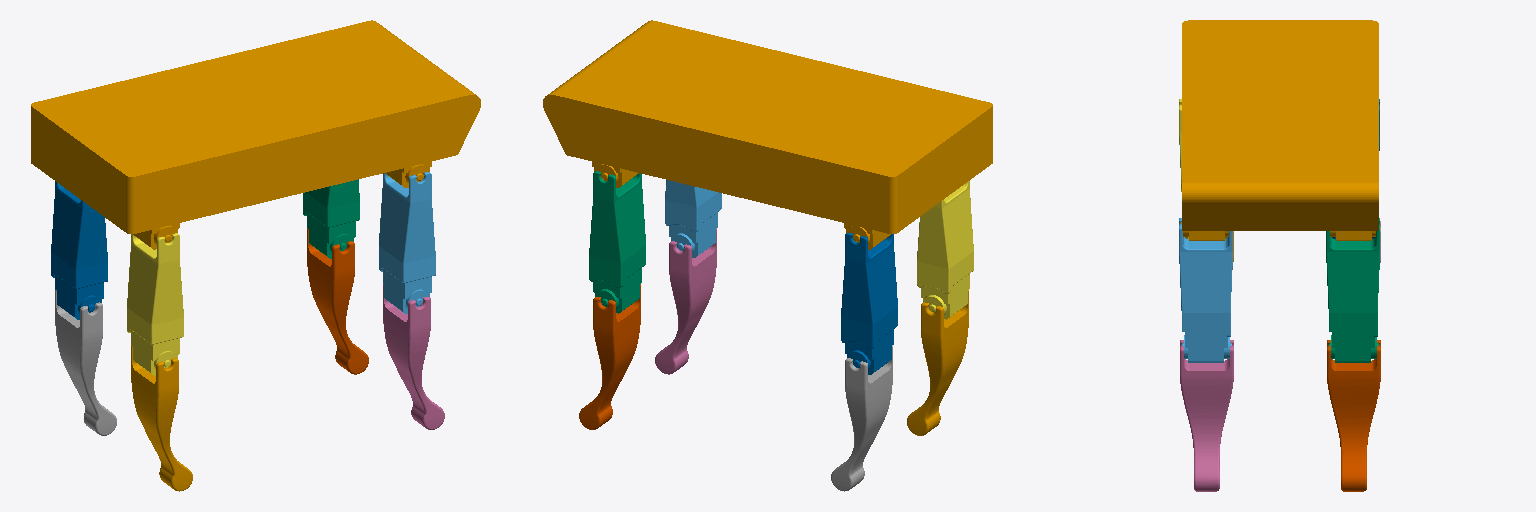
robot.urdf — quad_one_leg:
<?xml version="1.0"?>
<robot name="quad_one_leg">

  <!-- ========== BODY LINK (base_link) ========== -->
  <link name="base_link">
    <inertial>
      <!-- COM of full base (acrylic + electronics + battery etc.) 
          relative to base_link frame at plate mid-plane center -->
      <origin xyz="0.0059 -0.00040 0.01206" rpy="0 0 0"/>

      <!-- mass: 1268.5 g -->
      <mass value="1.2685"/>

      <!-- inertia tensor at COM (from SolidWorks, converted to kg·m^2) -->
      <inertia
        ixx="0.003092903"
        ixy="1.0691e-05"
        ixz="0.000192746"
        iyy="0.010472619"
        iyz="3.5222e-06"
        izz="0.012174911"/>
    </inertial>
    <visual>
        <!-- New mesh offset so that the desired body point becomes link origin -->
        <origin xyz="-0.15 -0.08 -0.02094" rpy="0 0 0"/>
        <geometry>
            <mesh filename="body.STL" scale="0.001 0.001 0.001"/>
        </geometry>
    </visual>

    <collision>
        <origin xyz="-0.15 -0.08 -0.02094" rpy="0 0 0"/>
        <geometry>
            <mesh filename="body.STL" scale="0.001 0.001 0.001"/>
        </geometry>
    </collision>
  </link>


  <!-- ========== THIGH LINK (front-right) ========== -->
  <link name="thigh_fr">
    <inertial>
      <!-- COM of thigh+servo+horn relative to hip joint frame -->
      <origin xyz="0 -0.00033 -0.07263" rpy="0 0 0"/>

      <!-- mass: 111.96 g -->
      <mass value="0.11196"/>

      <!-- inertia tensor at COM (converted from g·cm^2 to kg·m^2) -->
      <inertia
        ixx="0.011062438"
        ixy="-1.6e-08"
        ixz="5.3e-08"
        iyy="0.010248068"
        iyz="0.000102968"
        izz="0.00203968"/>
    </inertial>


    <visual>
      <origin xyz="-0.015 -0.02215 -0.1195" rpy="0 0 0"/>
      <geometry>
        <mesh filename="thigh.STL" scale="0.001 0.001 0.001"/>
      </geometry>
    </visual>

    <collision>
      <origin xyz="-0.015 -0.02215 -0.1195" rpy="0 0 0"/>
      <geometry>
        <mesh filename="thigh.STL" scale="0.001 0.001 0.001"/>
      </geometry>
    </collision>
  </link>

  <!-- ========== THIGH LINK (front-left) ========== -->
  <link name="thigh_fl">
    <inertial>
      <!-- COM of thigh+servo+horn relative to hip joint frame -->
      <origin xyz="0 -0.00033 -0.07263" rpy="0 0 0"/>

      <!-- mass: 111.96 g -->
      <mass value="0.11196"/>

      <!-- inertia tensor at COM (converted from g·cm^2 to kg·m^2) -->
      <inertia
        ixx="0.011062438"
        ixy="-1.6e-08"
        ixz="5.3e-08"
        iyy="0.010248068"
        iyz="0.000102968"
        izz="0.00203968"/>
    </inertial>

    <visual>
      <origin xyz="-0.015 -0.02215 -0.1195" rpy="0 0 0"/>
      <geometry>
        <mesh filename="thigh.STL" scale="0.001 0.001 0.001"/>
      </geometry>
    </visual>

    <collision>
      <origin xyz="-0.015 -0.02215 -0.1195" rpy="0 0 0"/>
      <geometry>
        <mesh filename="thigh.STL" scale="0.001 0.001 0.001"/>
      </geometry>
    </collision>
  </link>

  <!-- ========== THIGH LINK (back-right) ========== -->
  <link name="thigh_br">
    <inertial>
      <!-- COM of thigh+servo+horn relative to hip joint frame -->
      <origin xyz="0 -0.00033 -0.07263" rpy="0 0 0"/>

      <!-- mass: 111.96 g -->
      <mass value="0.11196"/>

      <!-- inertia tensor at COM (converted from g·cm^2 to kg·m^2) -->
      <inertia
        ixx="0.011062438"
        ixy="-1.6e-08"
        ixz="5.3e-08"
        iyy="0.010248068"
        iyz="0.000102968"
        izz="0.00203968"/>
    </inertial>

    <visual>
      <origin xyz="-0.015 -0.02215 -0.1195" rpy="0 0 0"/>
      <geometry>
        <mesh filename="thigh.STL" scale="0.001 0.001 0.001"/>
      </geometry>
    </visual>

    <collision>
      <origin xyz="-0.015 -0.02215 -0.1195" rpy="0 0 0"/>
      <geometry>
        <mesh filename="thigh.STL" scale="0.001 0.001 0.001"/>
      </geometry>
    </collision>
  </link>

  <!-- ========== THIGH LINK (back-left) ========== -->
  <link name="thigh_bl">
    <inertial>
      <!-- COM of thigh+servo+horn relative to hip joint frame -->
      <origin xyz="0 -0.00033 -0.07263" rpy="0 0 0"/>

      <!-- mass: 111.96 g -->
      <mass value="0.11196"/>

      <!-- inertia tensor at COM (converted from g·cm^2 to kg·m^2) -->
      <inertia
        ixx="0.011062438"
        ixy="-1.6e-08"
        ixz="5.3e-08"
        iyy="0.010248068"
        iyz="0.000102968"
        izz="0.00203968"/>
    </inertial>

    <visual>
      <origin xyz="-0.015 -0.02215 -0.1195" rpy="0 0 0"/>
      <geometry>
        <mesh filename="thigh.STL" scale="0.001 0.001 0.001"/>
      </geometry>
    </visual>

    <collision>
      <origin xyz="-0.015 -0.02215 -0.1195" rpy="0 0 0"/>
      <geometry>
        <mesh filename="thigh.STL" scale="0.001 0.001 0.001"/>
      </geometry>
    </collision>
  </link>

  <!-- ========== SHANK LINK (front-left) ========== -->
  <link name="shank_fl">
    <inertial>
      <!-- COM relative to knee joint frame -->
      <origin xyz="0.00406 -0.00208 -0.05257" rpy="0 0 0"/>

      <!-- mass: 61.45 g -> 0.06145 kg -->
      <mass value="0.06145"/>

      <!-- inertia tensor at COM (converted from g·mm^2 to kg·m^2) -->
      <inertia
        ixx="7.200365e-05"
        ixy="-1.96479e-06"
        ixz="-1.181483e-05"
        iyy="6.268079e-05"
        iyz="8.8824e-07"
        izz="1.96048e-05"/>
    </inertial>

    <visual>
      <origin xyz="-0.01775 -0.02925 -0.12" rpy="0 0 0"/>
      <geometry>
        <mesh filename="shank.STL" scale="0.001 0.001 0.001"/>
      </geometry>
    </visual>

    <collision>
      <origin xyz="-0.01775 -0.02925 -0.12" rpy="0 0 0"/>
      <geometry>
        <mesh filename="shank.STL" scale="0.001 0.001 0.001"/>
      </geometry>
    </collision>
  </link>

  <!-- ========== SHANK LINK (front-right) ========== -->
  <link name="shank_fr">
    <inertial>
      <!-- COM relative to knee joint frame -->
      <origin xyz="0.00406 -0.00208 -0.05257" rpy="0 0 0"/>

      <!-- mass: 61.45 g -> 0.06145 kg -->
      <mass value="0.06145"/>

      <!-- inertia tensor at COM (converted from g·mm^2 to kg·m^2) -->
      <inertia
        ixx="7.200365e-05"
        ixy="-1.96479e-06"
        ixz="-1.181483e-05"
        iyy="6.268079e-05"
        iyz="8.8824e-07"
        izz="1.96048e-05"/>
    </inertial>

    <visual>
      <origin xyz="-0.01775 -0.02925 -0.12" rpy="0 0 0"/>
      <geometry>
        <mesh filename="shank.STL" scale="0.001 0.001 0.001"/>
      </geometry>
    </visual>

    <collision>
      <origin xyz="-0.01775 -0.02925 -0.12" rpy="0 0 0"/>
      <geometry>
        <mesh filename="shank.STL" scale="0.001 0.001 0.001"/>
      </geometry>
    </collision>
  </link>

  <!-- ========== SHANK LINK (back-left) ========== -->
  <link name="shank_bl">
    <inertial>
      <!-- COM relative to knee joint frame -->
      <origin xyz="0.00406 -0.00208 -0.05257" rpy="0 0 0"/>

      <!-- mass: 61.45 g -> 0.06145 kg -->
      <mass value="0.06145"/>

      <!-- inertia tensor at COM (converted from g·mm^2 to kg·m^2) -->
      <inertia
        ixx="7.200365e-05"
        ixy="-1.96479e-06"
        ixz="-1.181483e-05"
        iyy="6.268079e-05"
        iyz="8.8824e-07"
        izz="1.96048e-05"/>
    </inertial>

    <visual>
      <origin xyz="-0.01775 -0.02925 -0.12" rpy="0 0 0"/>
      <geometry>
        <mesh filename="shank.STL" scale="0.001 0.001 0.001"/>
      </geometry>
    </visual>

    <collision>
      <origin xyz="-0.01775 -0.02925 -0.12" rpy="0 0 0"/>
      <geometry>
        <mesh filename="shank.STL" scale="0.001 0.001 0.001"/>
      </geometry>
    </collision>
  </link>

  <!-- ========== SHANK LINK (back-right) ========== -->
  <link name="shank_br">
    <inertial>
      <!-- COM relative to knee joint frame -->
      <origin xyz="0.00406 -0.00208 -0.05257" rpy="0 0 0"/>

      <!-- mass: 61.45 g -> 0.06145 kg -->
      <mass value="0.06145"/>

      <!-- inertia tensor at COM (converted from g·mm^2 to kg·m^2) -->
      <inertia
        ixx="7.200365e-05"
        ixy="-1.96479e-06"
        ixz="-1.181483e-05"
        iyy="6.268079e-05"
        iyz="8.8824e-07"
        izz="1.96048e-05"/>
    </inertial>

    <visual>
      <origin xyz="-0.01775 -0.02925 -0.12" rpy="0 0 0"/>
      <geometry>
        <mesh filename="shank.STL" scale="0.001 0.001 0.001"/>
      </geometry>
    </visual>

    <collision>
      <origin xyz="-0.01775 -0.02925 -0.12" rpy="0 0 0"/>
      <geometry>
        <mesh filename="shank.STL" scale="0.001 0.001 0.001"/>
      </geometry>
    </collision>
  </link>

  <!-- ========== HIP JOINT (base_link -> thigh_fr) ========== -->
  <joint name="hip_fr" type="revolute">
    <parent link="base_link"/>
    <child  link="thigh_fr"/>

    <origin xyz="0.1163 -0.059 -0.0120" rpy="0 0 0"/>

    <axis xyz="0 1 0"/>

    <limit lower="-1.22" upper="1.22" effort="1.91" velocity="5.5"/>
  </joint>

  <!-- ========== HIP JOINT (base_link -> thigh_fl) ========== -->
  <joint name="hip_fl" type="revolute">
    <parent link="base_link"/>
    <child  link="thigh_fl"/>

    <origin xyz="0.1163 0.061 -0.012" rpy="0 0 0"/>

    <axis xyz="0 1 0"/>

    <limit lower="-1.22" upper="1.22" effort="1.91" velocity="5.5"/>
  </joint>

  <!-- ========== HIP JOINT (base_link -> thigh_br) ========== -->
  <joint name="hip_br" type="revolute">
    <parent link="base_link"/>
    <child  link="thigh_br"/>

    <origin xyz="-0.1137 -0.0590 -0.0120" rpy="0 0 0"/>

    <axis xyz="0 1 0"/>

    <limit lower="-1.22" upper="1.22" effort="1.91" velocity="5.5"/>
  </joint>

  <!-- ========== HIP JOINT (base_link -> thigh_bl) ========== -->
  <joint name="hip_bl" type="revolute">
    <parent link="base_link"/>
    <child  link="thigh_bl"/>

    <origin xyz="-0.1137 0.0610 -0.0120" rpy="0 0 0"/>

    <axis xyz="0 1 0"/>

    <limit lower="-1.22" upper="1.22" effort="1.91" velocity="5.5"/>
  </joint>

  <!-- ========== KNEE JOINT (thigh_fl -> shank_fl) ========== -->
  <joint name="knee_fl" type="revolute">
    <parent link="thigh_fl"/>
    <child  link="shank_fl"/>

    <origin xyz="0 0 -0.1095" rpy="0 0 0"/>

    <axis xyz="0 1 0"/>

    <limit lower="-1.22" upper="1.22" effort="1.91" velocity="5.5"/>
  </joint>

  <!-- ========== KNEE JOINT (thigh_fr -> shank_fr) ========== -->
  <joint name="knee_fr" type="revolute">
    <parent link="thigh_fr"/>
    <child  link="shank_fr"/>

    <origin xyz="0 0 -0.1095" rpy="0 0 0"/>

    <axis xyz="0 1 0"/>

    <limit lower="-1.22" upper="1.22" effort="1.91" velocity="5.5"/>
  </joint>

  <!-- ========== KNEE JOINT (thigh_bl -> shank_bl) ========== -->
  <joint name="knee_bl" type="revolute">
    <parent link="thigh_bl"/>
    <child  link="shank_bl"/>

    <origin xyz="0 0 -0.1095" rpy="0 0 0"/>

    <axis xyz="0 1 0"/>

    <limit lower="-1.22" upper="1.22" effort="1.91" velocity="5.5"/>
  </joint>

  <!-- ========== KNEE JOINT (thigh_br -> shank_br) ========== -->
  <joint name="knee_br" type="revolute">
    <parent link="thigh_br"/>
    <child  link="shank_br"/>

    <origin xyz="0 0 -0.1095" rpy="0 0 0"/>

    <axis xyz="0 1 0"/>

    <limit lower="-1.22" upper="1.22" effort="1.91" velocity="5.5"/>
  </joint>

</robot>

--- What the picture shows (computed from the rendered views, not written in the file) ---
3 views of the same robot in one strip: view 1: azimuth 30°, elevation 25°; view 2: azimuth 150°, elevation 25°; view 3: azimuth 270°, elevation 25° (orthographic).
Model quad_one_leg with 9 links and 8 joints (8 revolute), rooted at base_link, posed every joint at zero.
Visible links, largest first — view 1: base_link, thigh_fr, thigh_br, thigh_bl, shank_fl, shank_bl, shank_br, shank_fr, thigh_fl; view 2: base_link, thigh_fl, thigh_bl, thigh_br, shank_fl, shank_fr, shank_br, shank_bl, thigh_fr; view 3: base_link, thigh_fr, thigh_fl, shank_fl, shank_fr.
Link boxes in pixels (bbox=[...]): base_link: bbox=[31, 20, 480, 249]; thigh_fr: bbox=[379, 172, 435, 313]; thigh_br: bbox=[127, 233, 183, 375]; thigh_bl: bbox=[51, 181, 107, 319]; shank_fl: bbox=[307, 228, 368, 374]; shank_bl: bbox=[55, 290, 116, 435]; shank_br: bbox=[131, 345, 192, 491]; shank_fr: bbox=[383, 284, 444, 429]; thigh_fl: bbox=[303, 179, 359, 258]; base_link: bbox=[543, 20, 992, 249]; thigh_fl: bbox=[589, 171, 645, 313]; thigh_bl: bbox=[841, 233, 897, 374]; thigh_br: bbox=[917, 181, 973, 319]; shank_fl: bbox=[579, 284, 640, 429]; shank_fr: bbox=[655, 228, 716, 374]; shank_br: bbox=[907, 290, 968, 435]; shank_bl: bbox=[831, 345, 892, 491]; thigh_fr: bbox=[665, 180, 721, 257]; base_link: bbox=[1181, 20, 1378, 240]; thigh_fr: bbox=[1179, 218, 1232, 362]; thigh_fl: bbox=[1326, 218, 1379, 362]; shank_fl: bbox=[1327, 340, 1380, 491]; shank_fr: bbox=[1180, 340, 1233, 491].
Size in the robot's own frame: 0.3215 by 0.1649 by 0.2905 metres.
Meshes: 3 distinct files referenced, 9 mesh visuals loaded (3 binary STL).